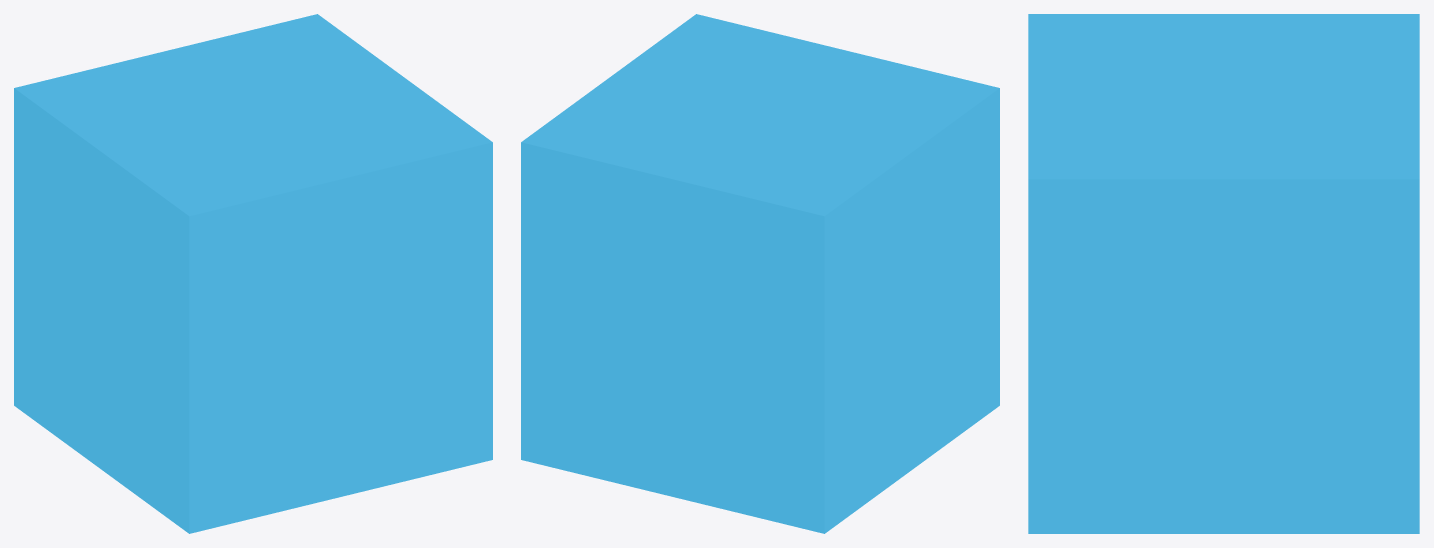
3 views of the same model, side by side, from view 1: azimuth 30°, elevation 25°; view 2: azimuth 150°, elevation 25°; view 3: azimuth 270°, elevation 25° (orthographic). The views are drawn at different scales.
Parts seen in each view (by area): view 1: main_cube; view 2: main_cube; view 3: main_cube.
Part boxes in pixels (x1=…): main_cube: x1=14, y1=14, x2=492, y2=533; main_cube: x1=521, y1=14, x2=999, y2=533; main_cube: x1=1028, y1=14, x2=1419, y2=533.
Size of the model in its own units: 1 by 1 by 1.
